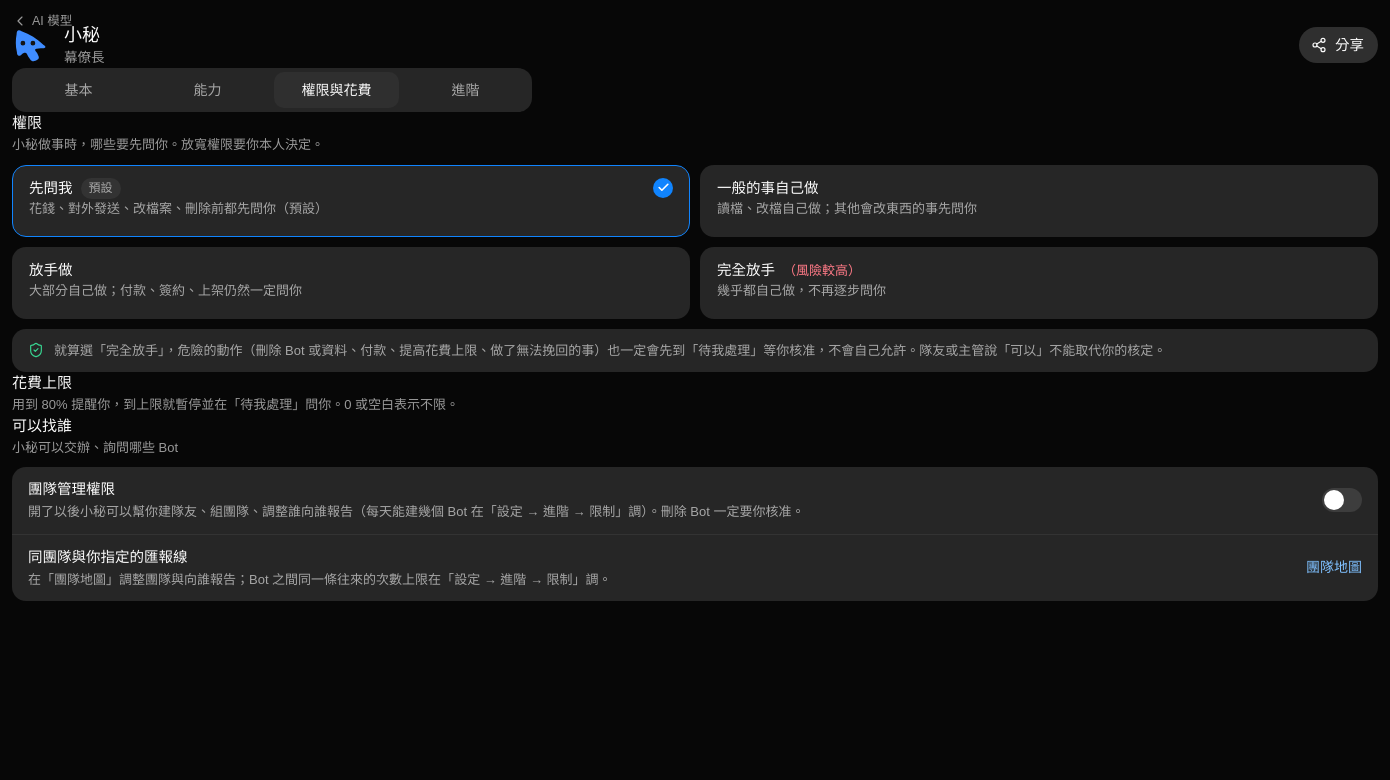
Bot 的權限：要核准時說明已送到待我處理
Check: the text "就算選「完全放手」" is shown, box [54, 343, 1166, 358]
Click the radio button labelled "完全放手 （風險較高） 幾乎都自己做，不再逐步問你". click: (746,270)
box: [700, 247, 1378, 319]
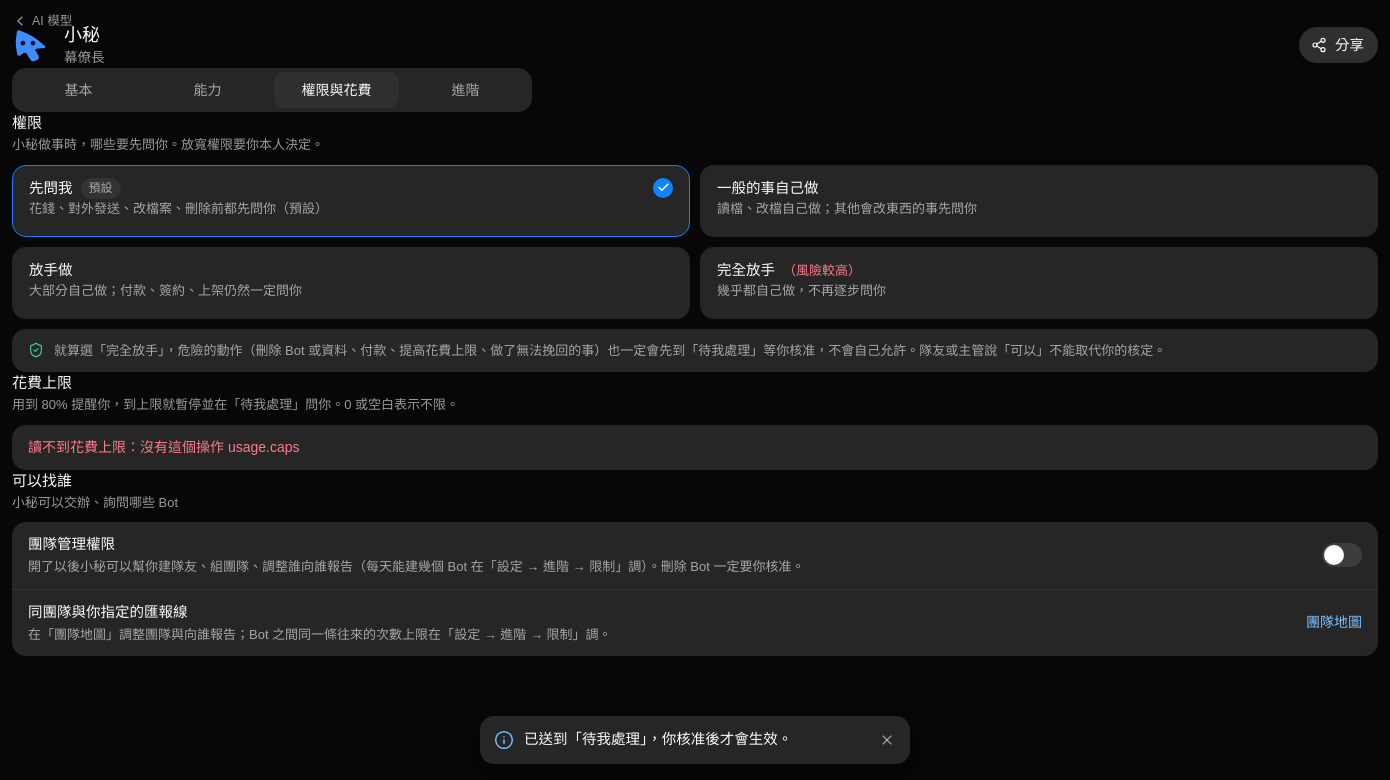
Check: the text "已送到「待我處理」，你核准後才會生效。" is shown, box [524, 731, 792, 747]
